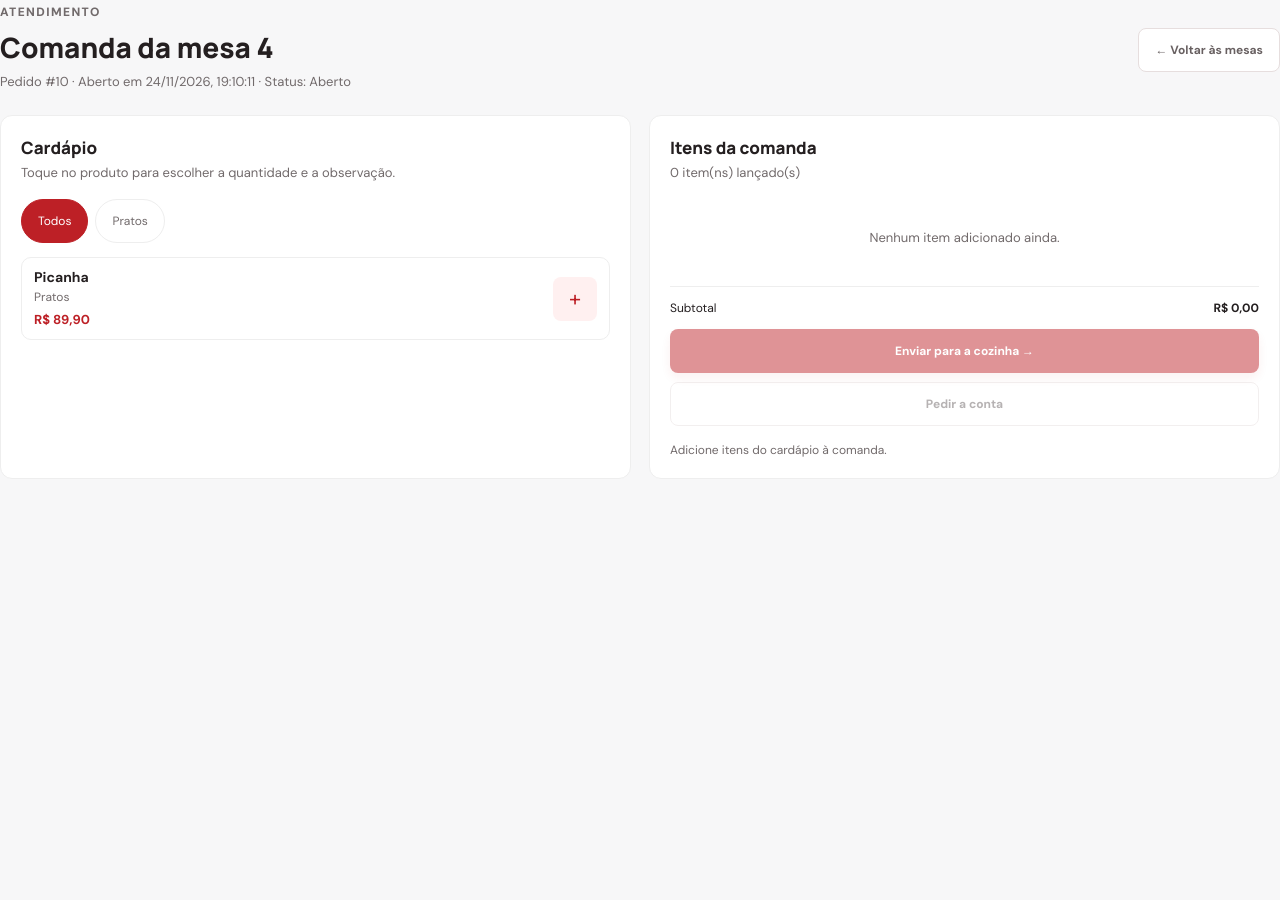
Scenario: Comanda: adicionar item em modal (spec 012) › erro da API aparece dentro do modal, que continua aberto
What coordinates should you click on to do the following:
click the button "Picanha Pratos R$ 89,90 +"
I would click on:
 (61, 277)
Its box is [21, 257, 610, 340].
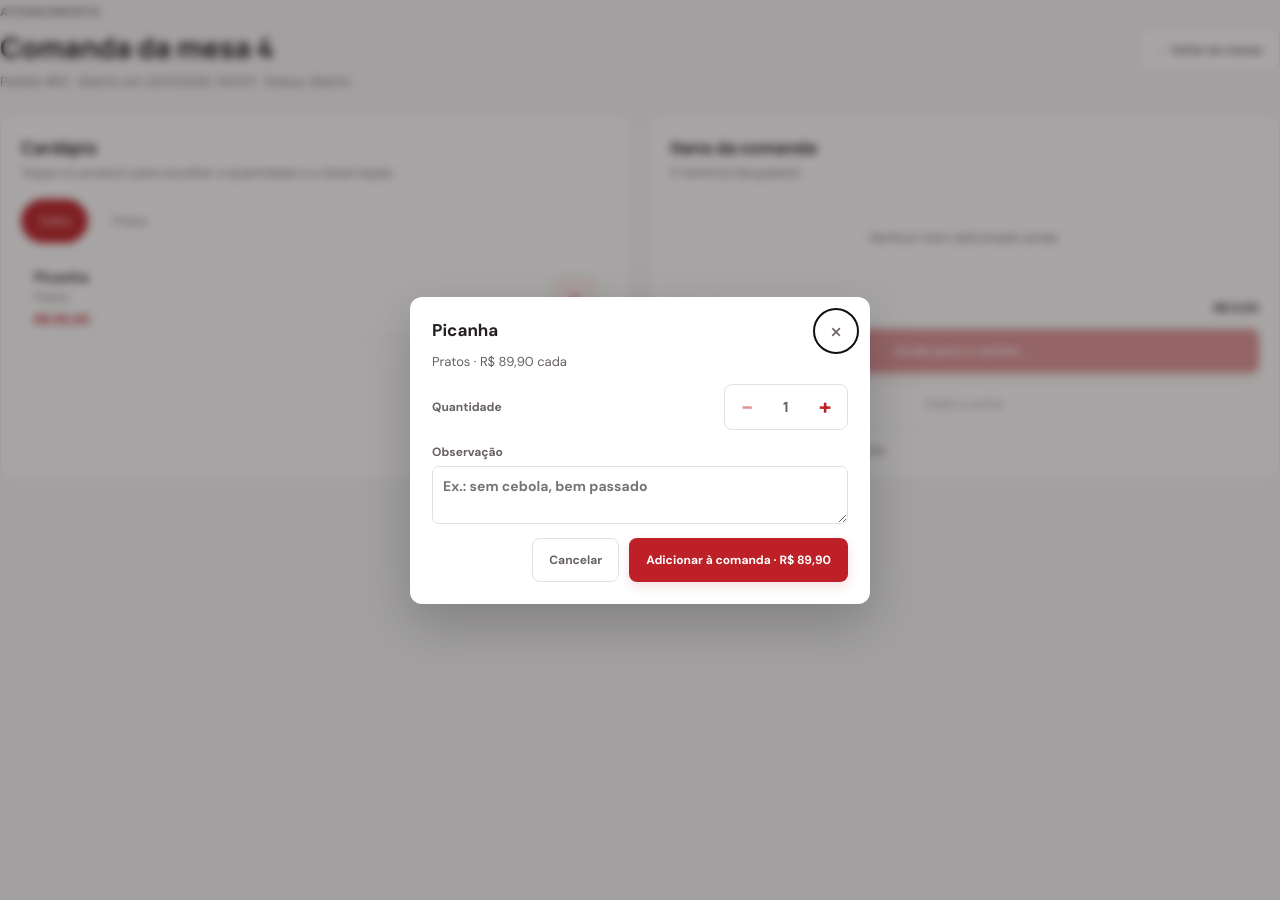
What coordinates should you click on to do the following:
click the button "Adicionar à comanda · R$ 89,90"
I would click on:
 (739, 560)
Its box is [629, 538, 848, 582].
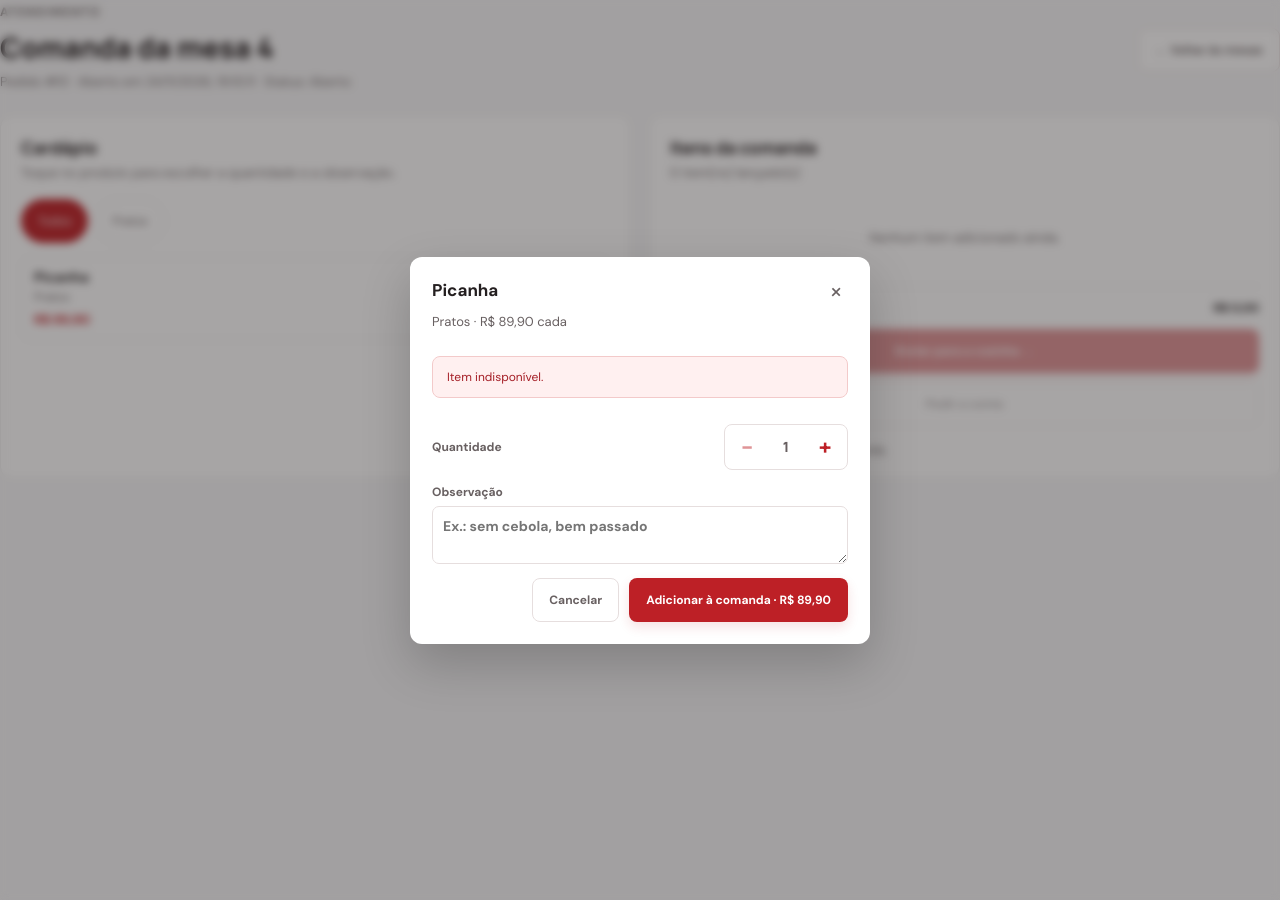
Expected: the text "Item indisponível." is shown, [432, 356, 848, 398]
